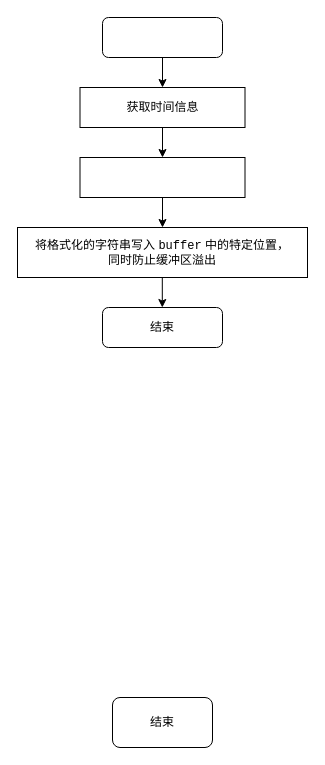
Some shapes in this 325 by 765 pixel diagram are drawn without their labels. The centre of each missing label's shape, as x and y in pixels:
开始: (162,37)
计算当前时间信息: (162,177)
